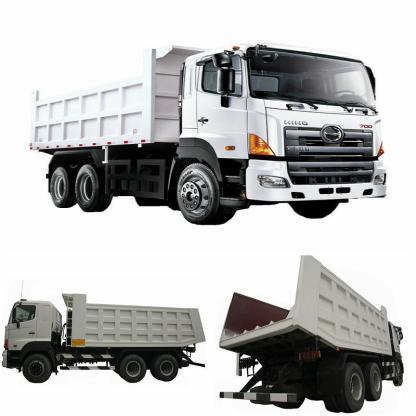dump_truck: (21, 33, 392, 237), (210, 252, 404, 408), (3, 281, 210, 393)
